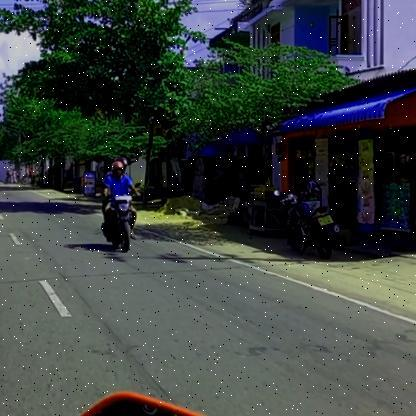motorcycle: (101, 192, 142, 254)
